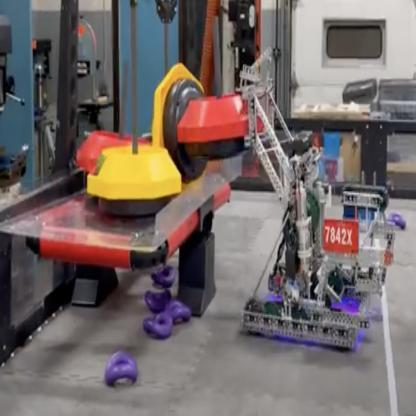ring: (105, 350, 138, 385), (162, 298, 192, 324), (143, 312, 172, 338), (144, 288, 170, 313), (150, 264, 175, 288), (386, 208, 406, 232)
